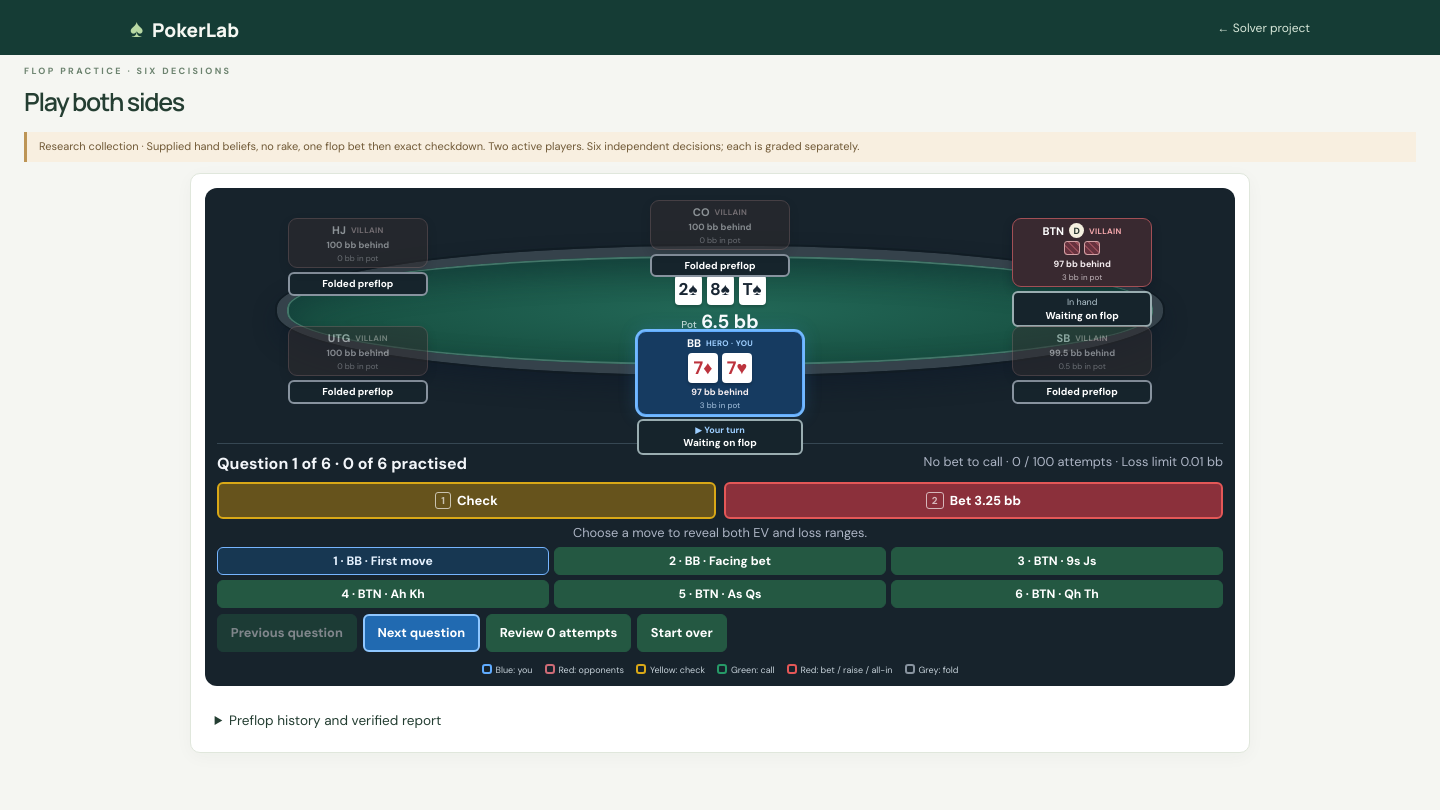
Test: keeps grades and revealed ranges scoped to their own question while revisiting and retrying
This screenshot has width=1440, height=810.
Click the button "1 Check" at (466, 500), box x1=217 y1=482 x2=716 y2=519
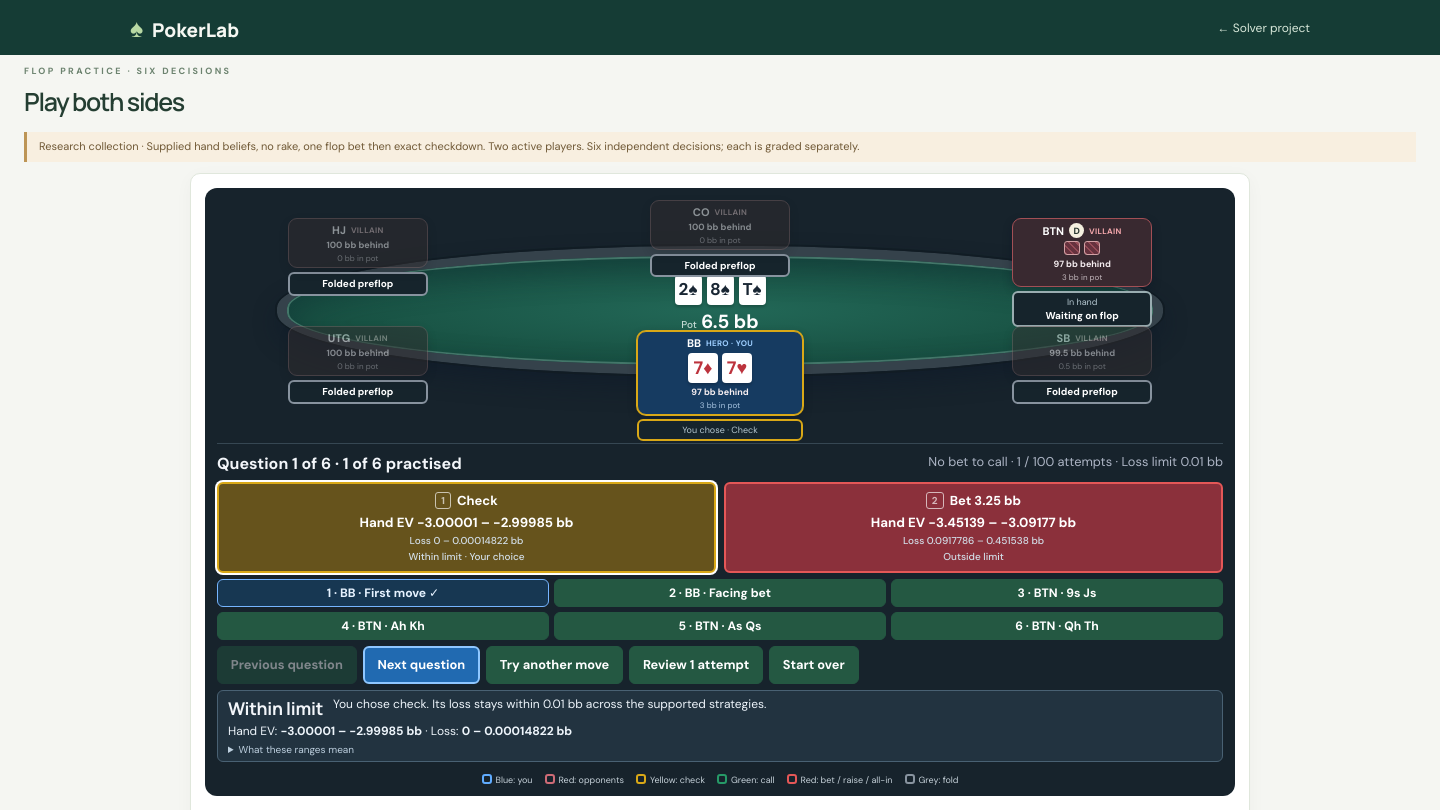
Now the heading "Within limit" is shown, box x1=228 y1=696 x2=323 y2=720
Click the button "Next question" at (421, 665), box x1=363 y1=646 x2=480 y2=684
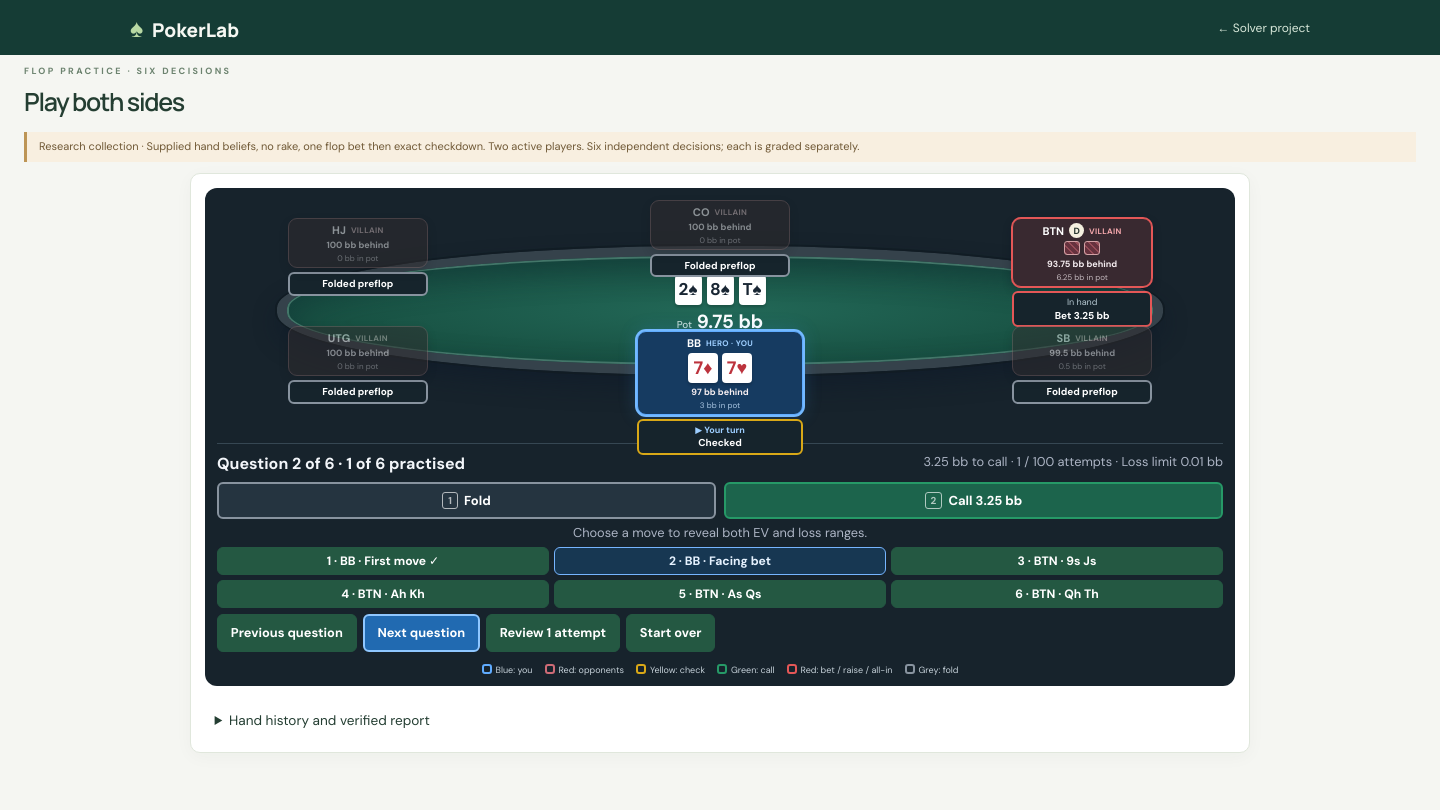
Expected: the button "1 Fold" does not show "EV", x1=217 y1=482 x2=716 y2=519
Click the button "2 Call 3.25 bb" at (974, 500), box x1=724 y1=482 x2=1223 y2=519
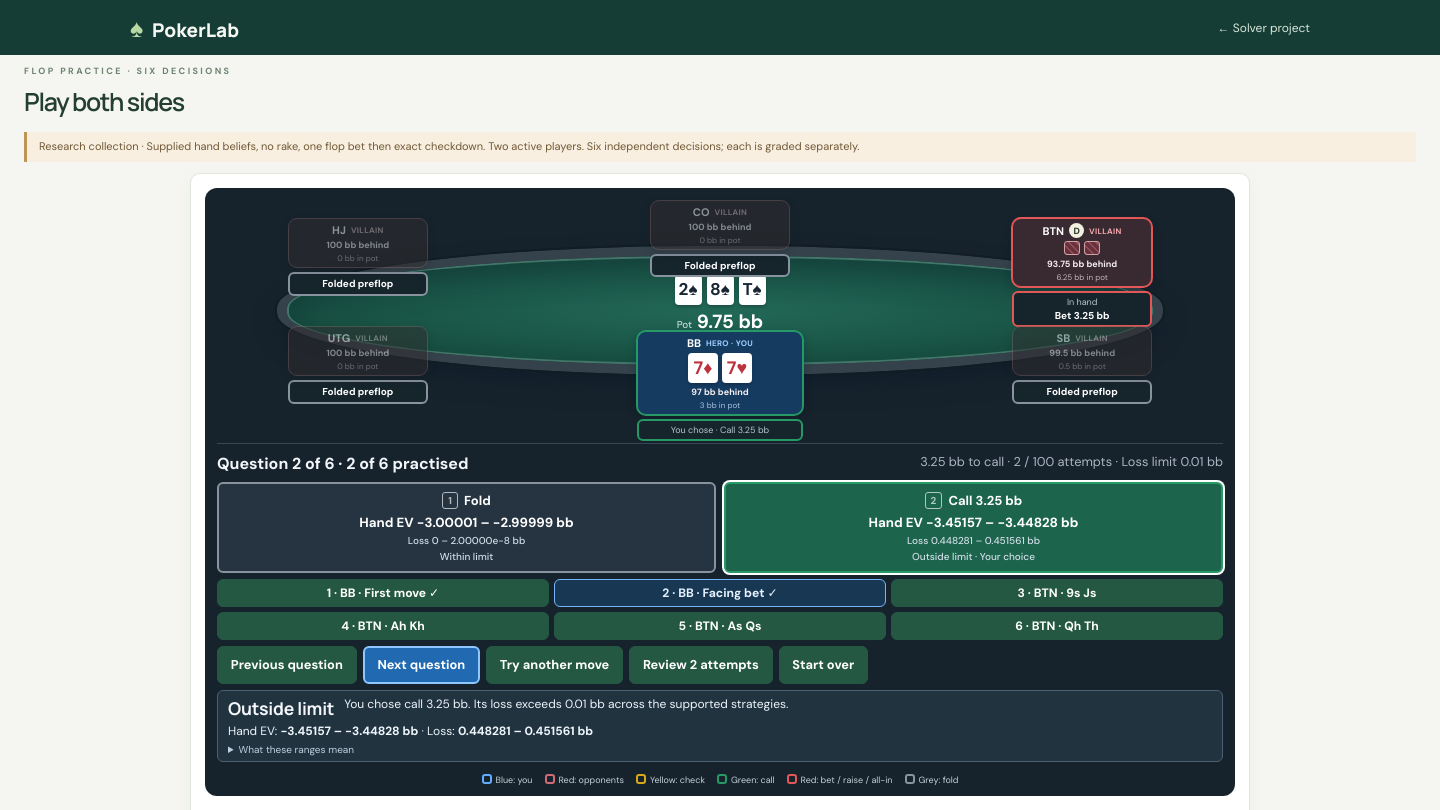
Now the heading "Outside limit" is shown, box x1=228 y1=696 x2=334 y2=720
Now the text "Question 2 of 6" shows "2 of 6 practised", box x1=217 y1=453 x2=468 y2=474
Click the button "Previous question" at (287, 665), box x1=217 y1=646 x2=357 y2=684
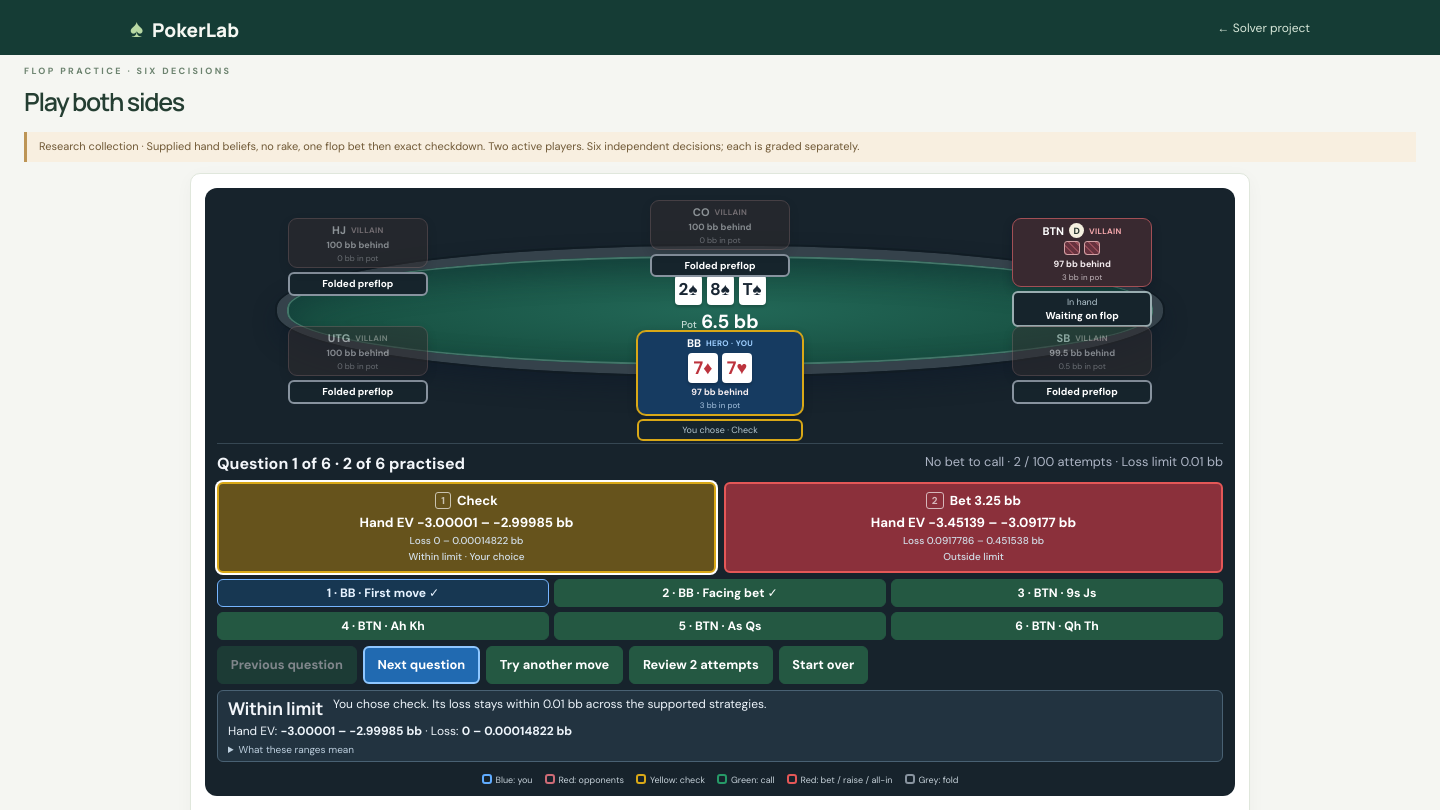
Now the button "Check" is disabled, box x1=217 y1=482 x2=716 y2=573
Now the button "Check" shows "Within limit", box x1=217 y1=482 x2=716 y2=573
Click the button "Try another move" at (555, 665), box x1=486 y1=646 x2=623 y2=684
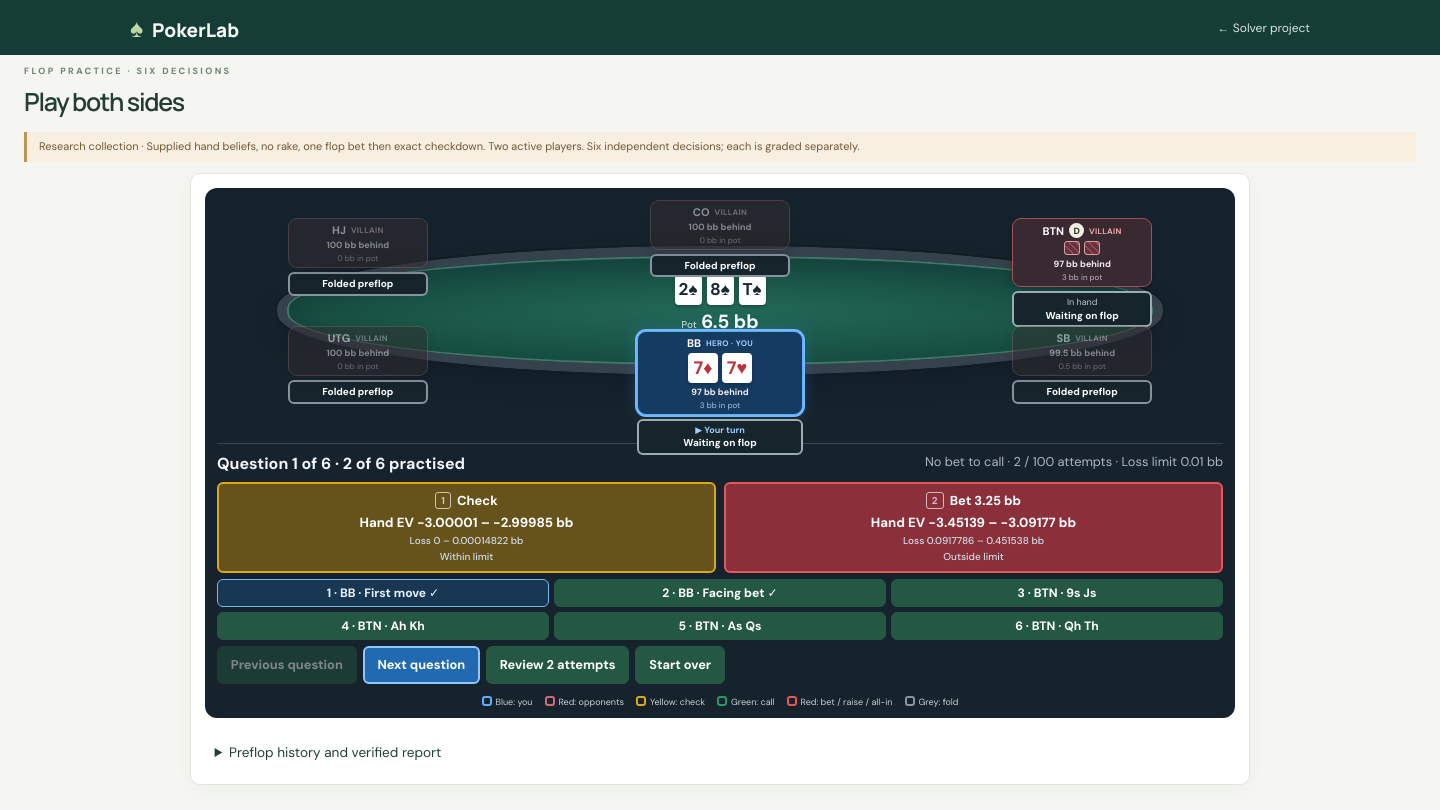
Now the button "Check" shows "Hand EV", box x1=217 y1=482 x2=716 y2=573
Click the button "Bet 3.25 bb" at (974, 527), box x1=724 y1=482 x2=1223 y2=573
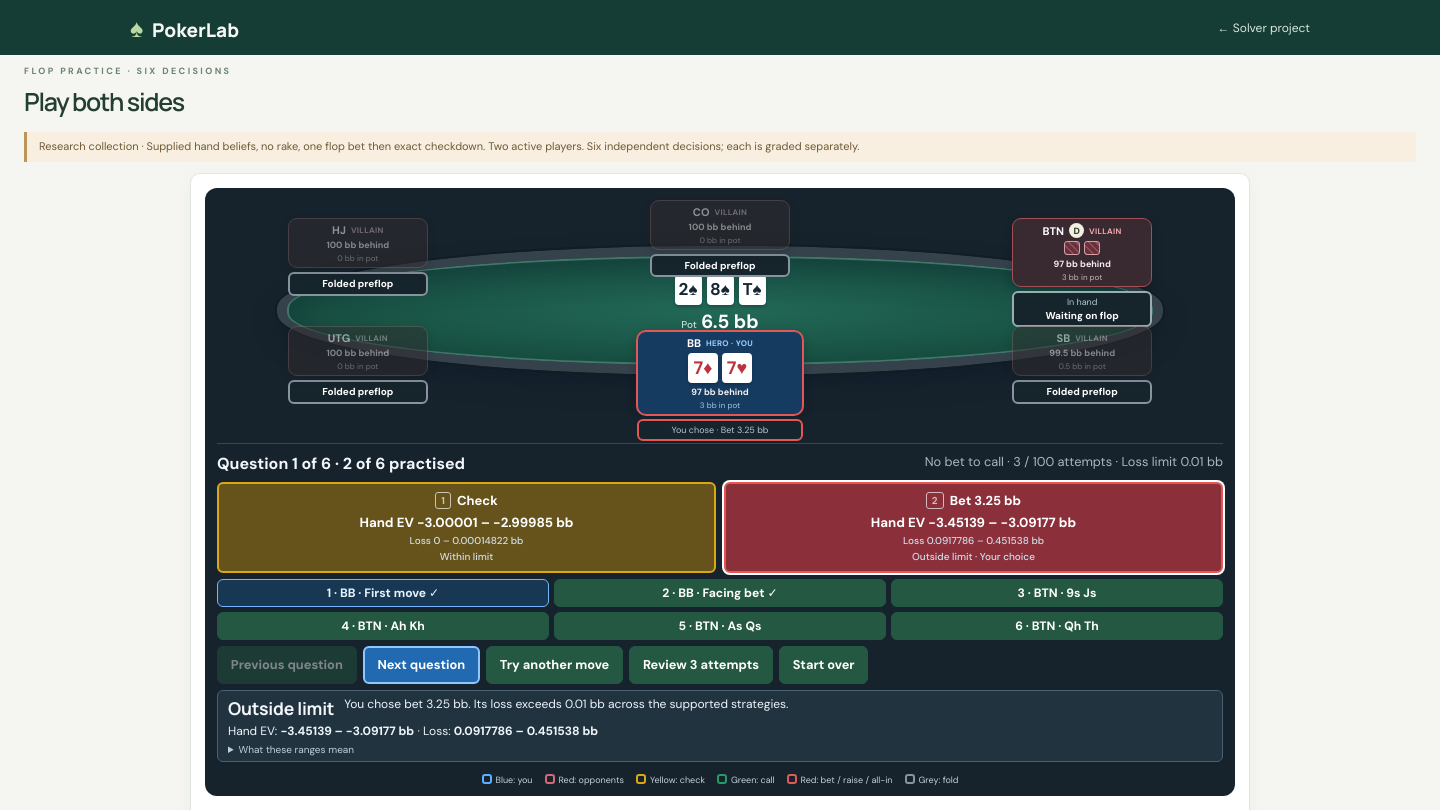
Now the heading "Outside limit" is shown, box x1=228 y1=696 x2=334 y2=720
